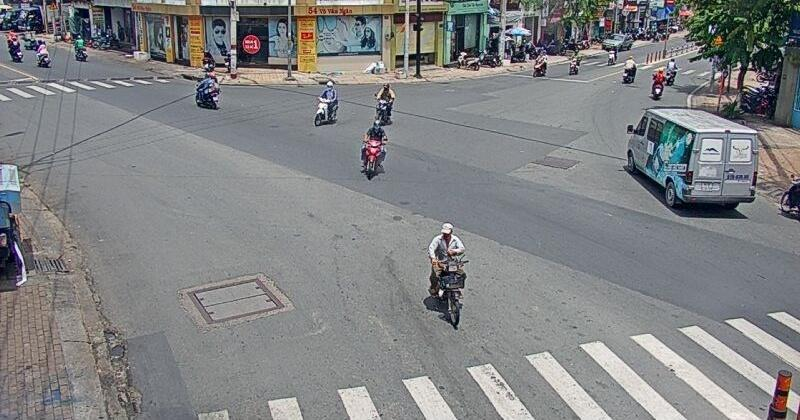xe may: (427, 226, 464, 333), (359, 118, 388, 181), (310, 81, 339, 126), (192, 71, 223, 112), (371, 79, 395, 125)
xe van: (624, 108, 770, 214)
